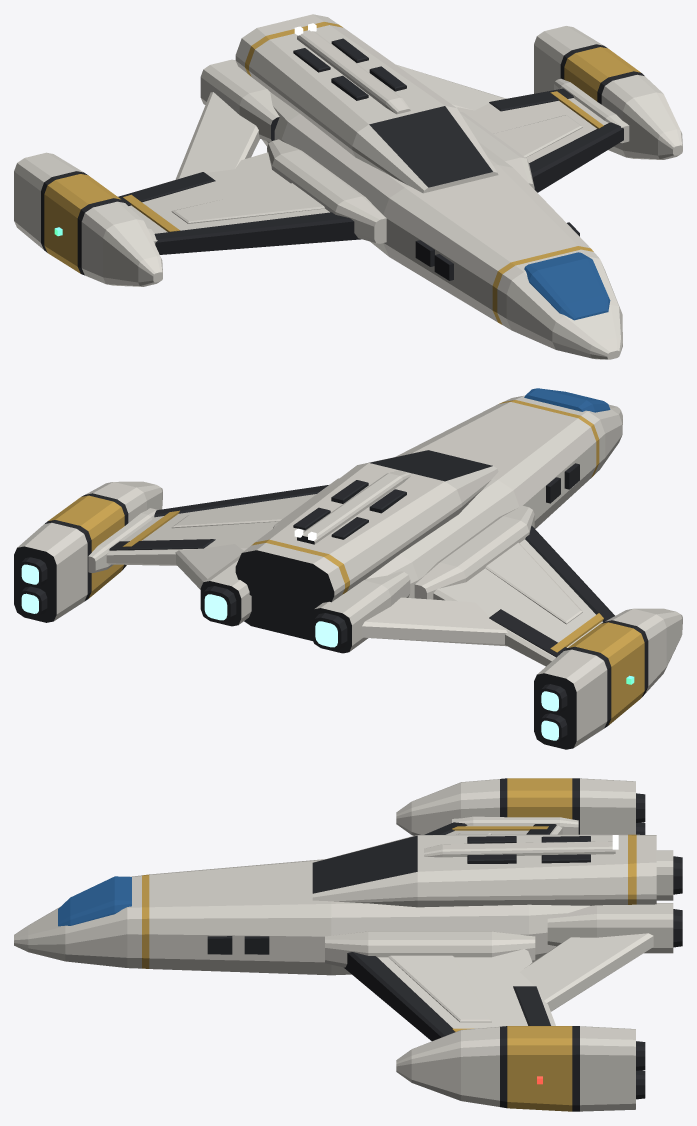
File: imperial-clipper.glb
3 views of the same model, one above another, from view 1: azimuth 30°, elevation 25°; view 2: azimuth 150°, elevation 25°; view 3: azimuth 270°, elevation 25° (orthographic). The views are drawn at different scales.
Visible parts, largest first — view 1: imperial-clipper; view 2: imperial-clipper; view 3: imperial-clipper.
Boxes of the visible parts, x1,y1,x2,y2 form: imperial-clipper: [14, 14, 682, 359]; imperial-clipper: [14, 388, 682, 749]; imperial-clipper: [14, 778, 682, 1111].
Size of the model in its own units: 105 by 26.16 by 108.
